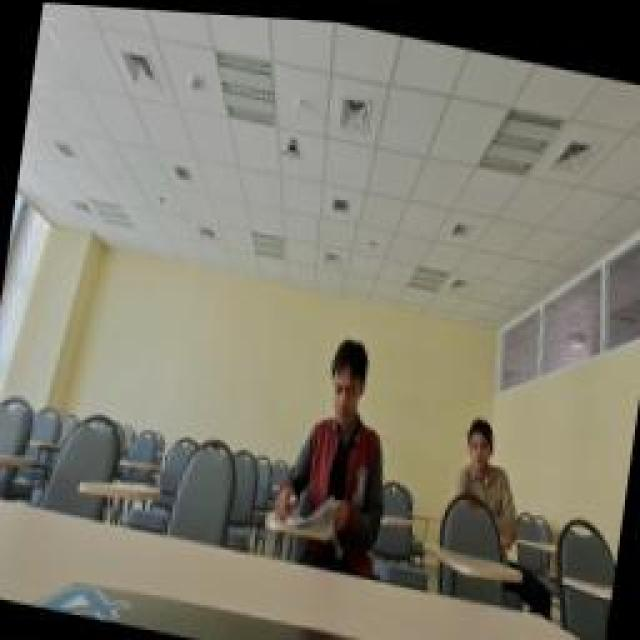study: (273, 322, 405, 578), (445, 405, 533, 553)
